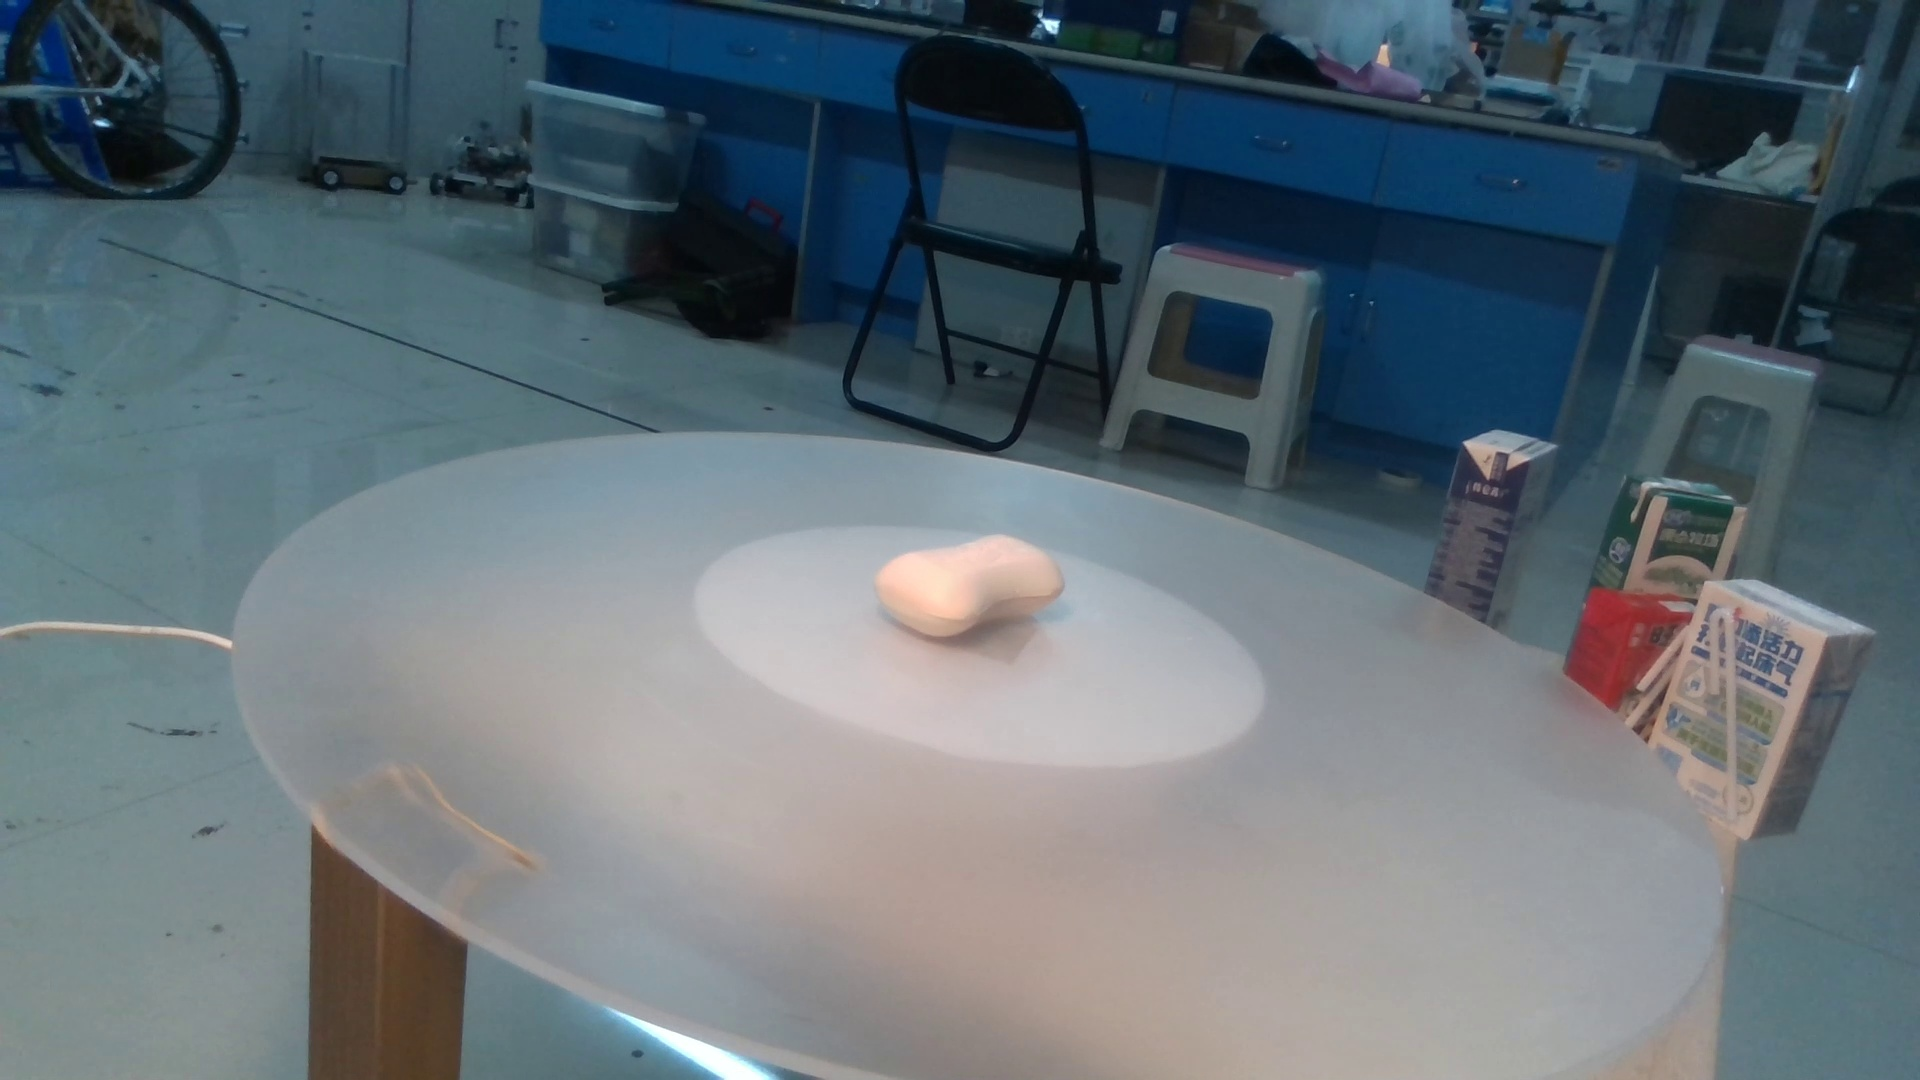CA003_1: (852, 512, 1095, 675)
